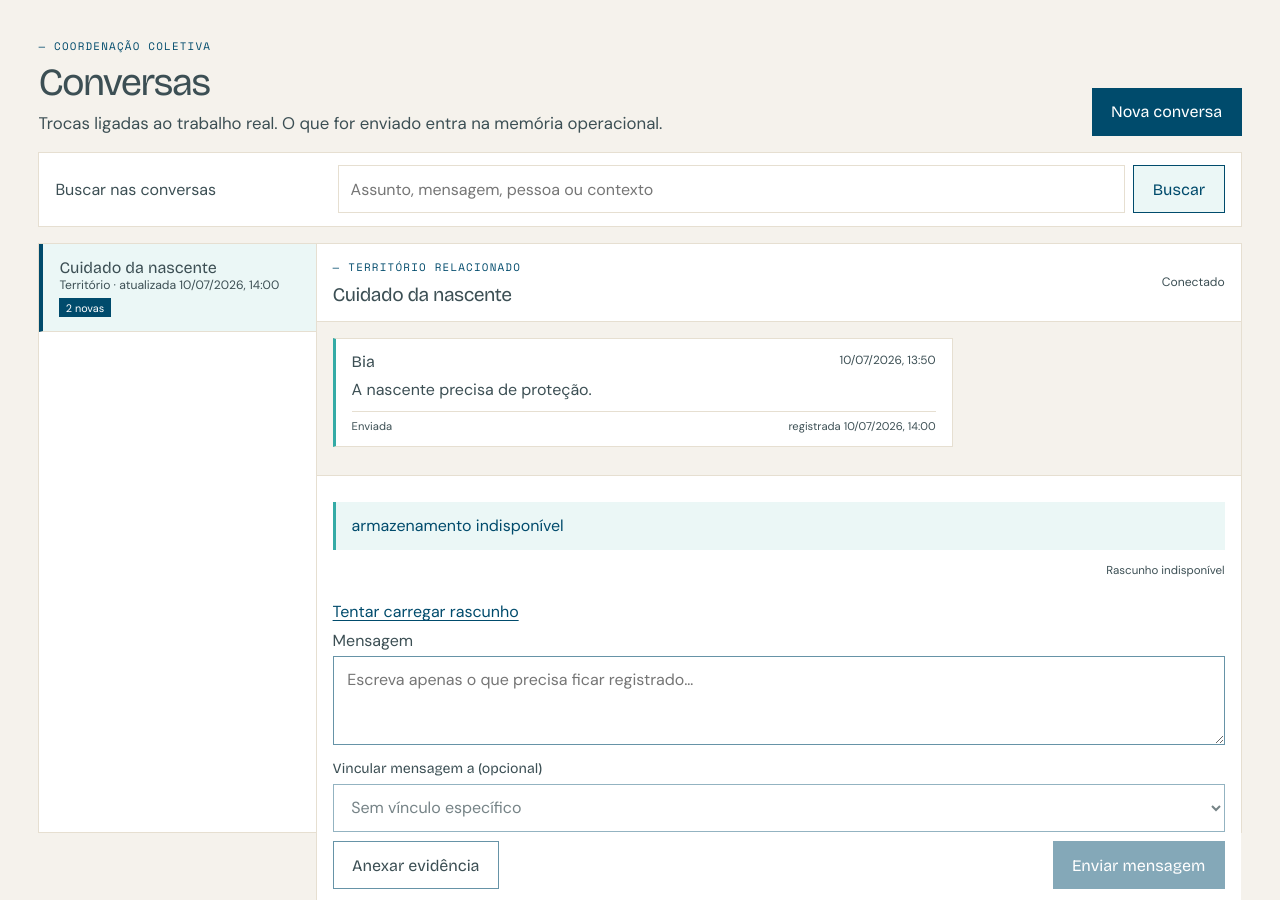
Test: MensagensPage › keeps the composer protected and retries when the local draft cannot be read
The width and height of the screenshot is (1280, 900).
Expected: the message "armazenamento indisponível" is shown, [333,502,1225,550]
Expected: the text box labelled "Mensagem" is disabled, [333,656,1225,744]
Step 1. Click the button "Tentar carregar rascunho" → [426, 612], box [333,594,519,630]
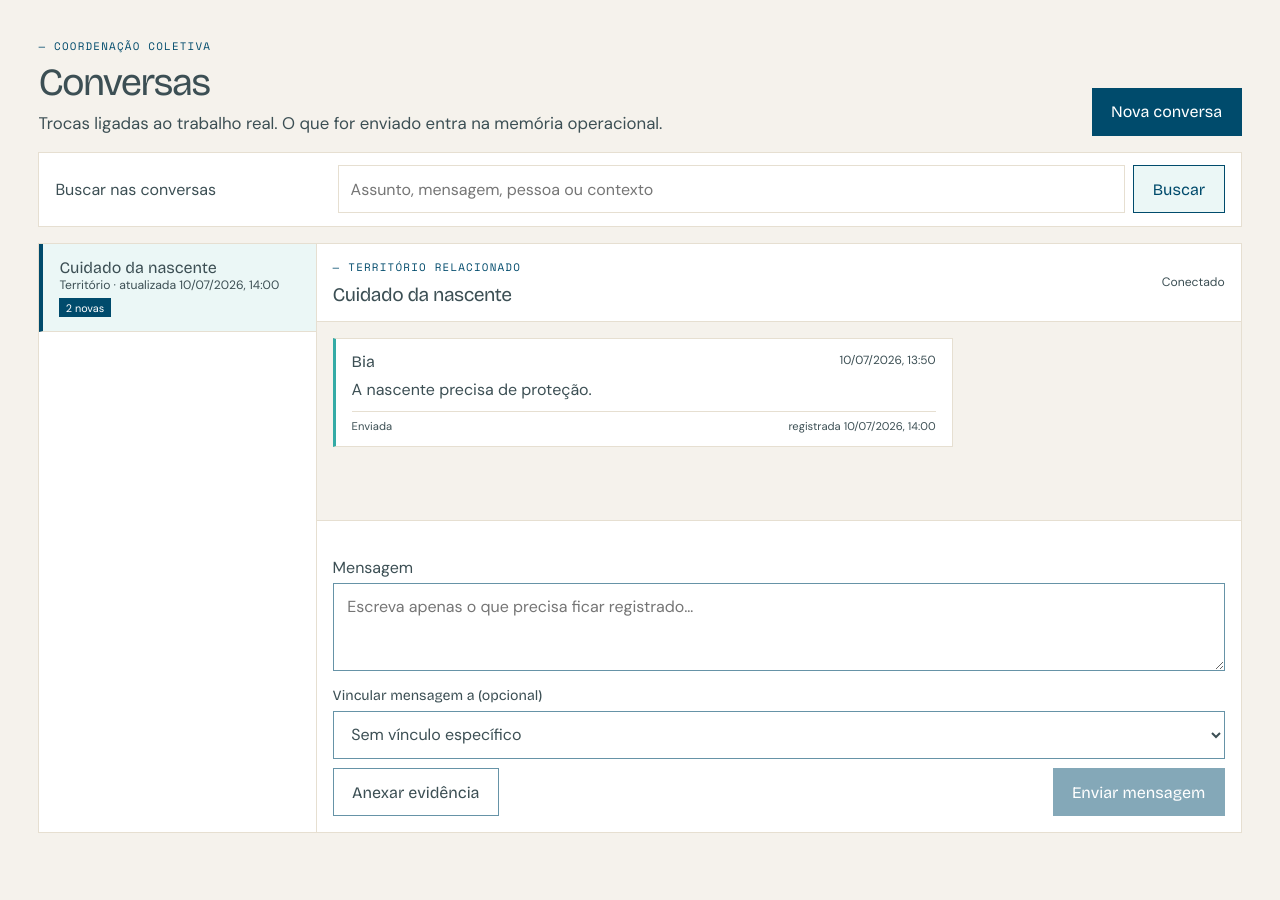
Now the text box labelled "Mensagem" is enabled, box [333,583,1225,671]
